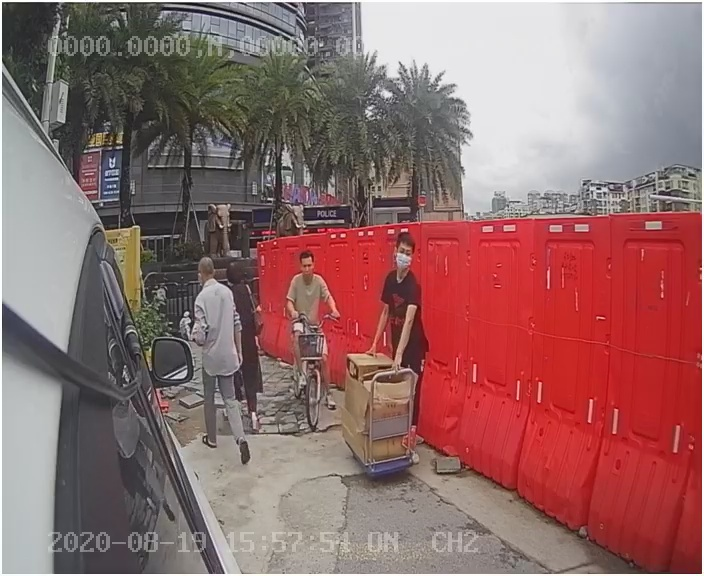person: (185, 257, 264, 464)
